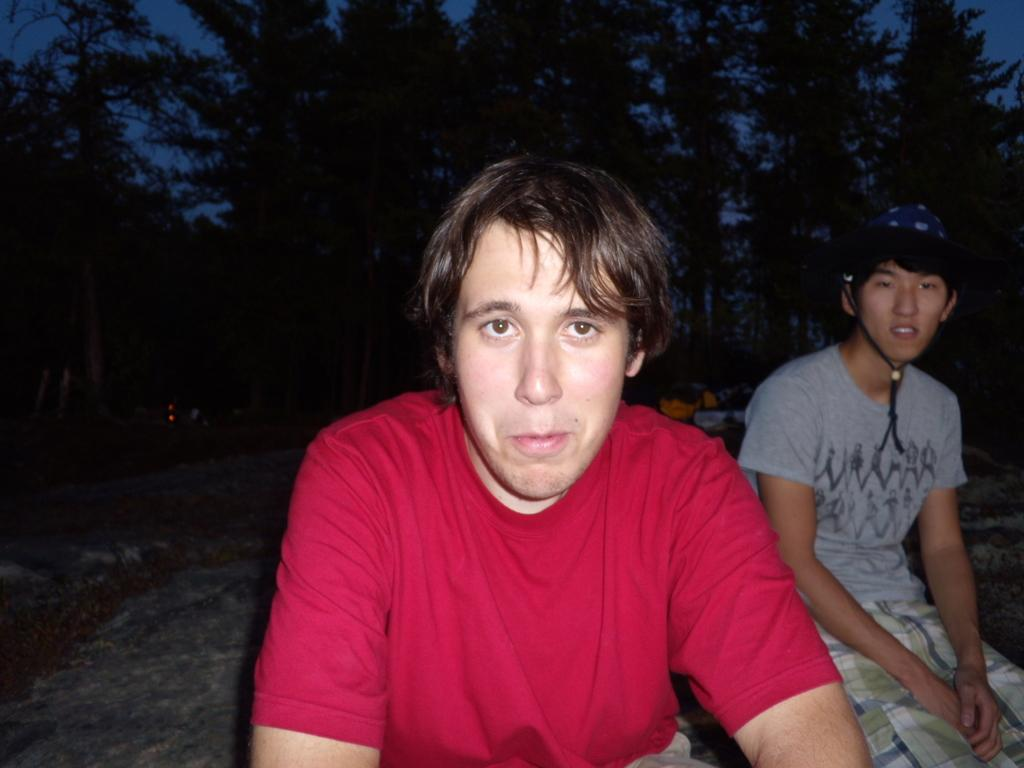Hat: (841, 207, 951, 454)
